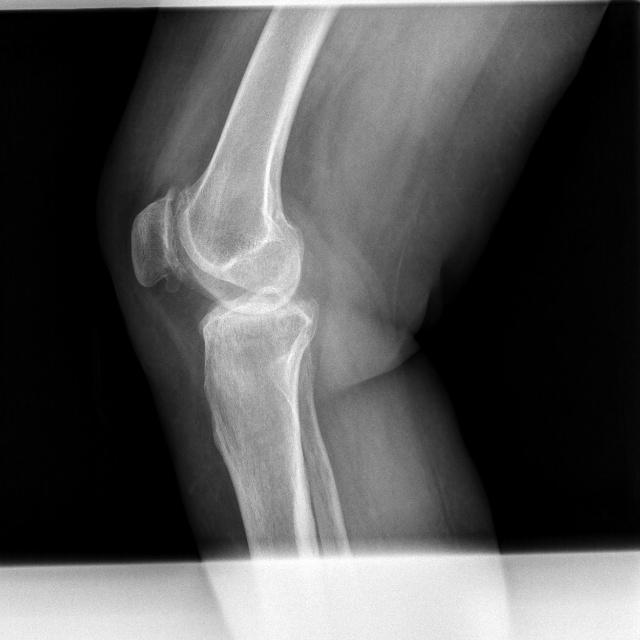Knee: (125, 182, 315, 393)
